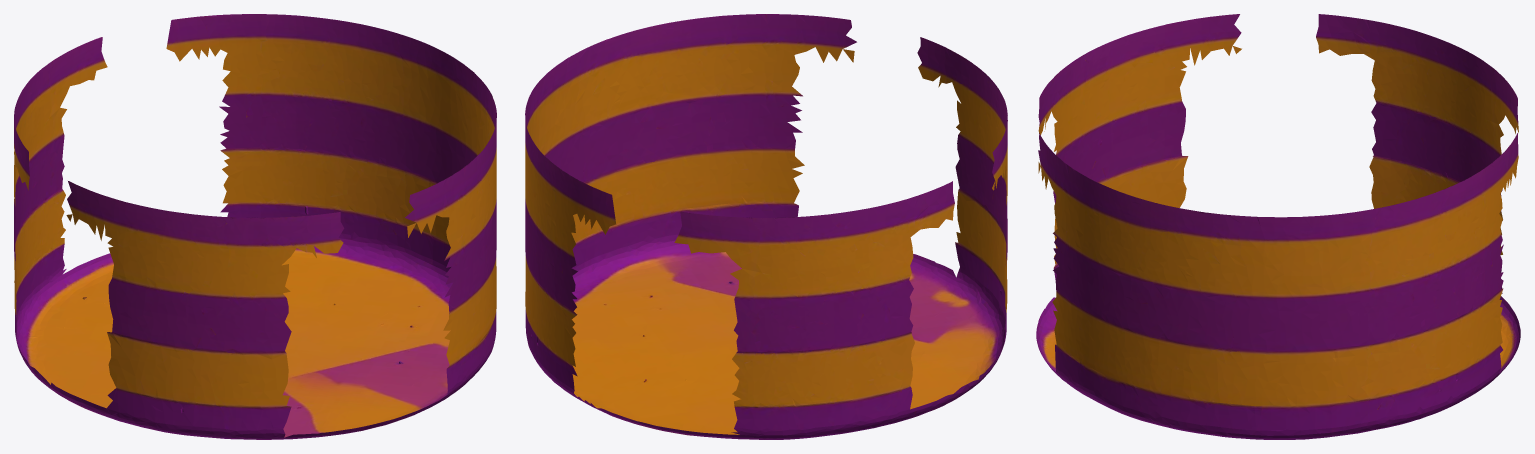
The model's file is body.glb.
The picture shows the model from 3 angles, left to right: view 1: azimuth 30°, elevation 25°; view 2: azimuth 150°, elevation 25°; view 3: azimuth 270°, elevation 25°; orthographic projection.
Parts seen in each view (by area): view 1: source_surface_0; view 2: source_surface_0; view 3: source_surface_0.
Boxes of the visible parts, <box> form: source_surface_0: <box>14,14,496,439</box>; source_surface_0: <box>525,14,1007,439</box>; source_surface_0: <box>1036,14,1520,439</box>.
Bounding box in the file's own units: 0.56 × 0.2939 × 0.5609.
Materials: 1 (1 with a texture image).
